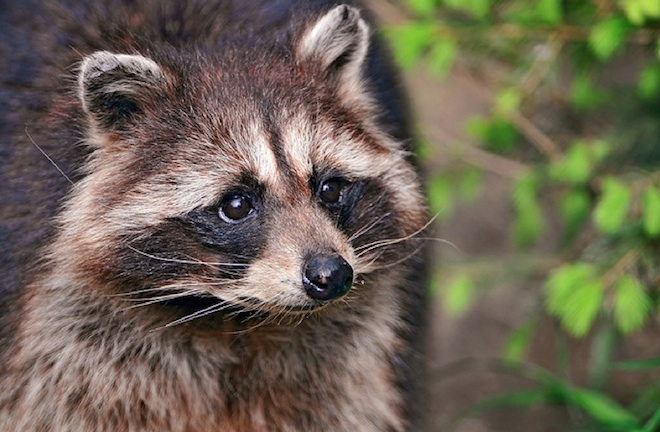raccoon: (8, 3, 429, 432)
